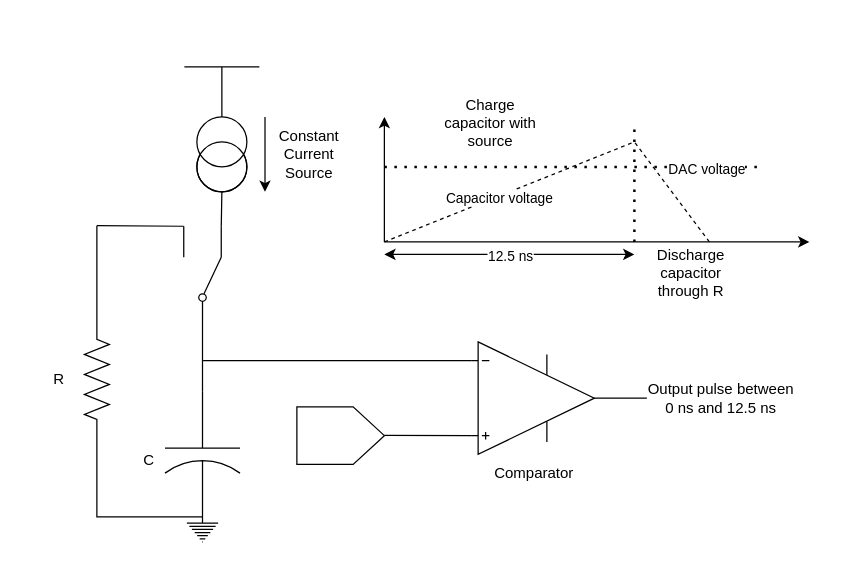
The diagram is 841 pixels wide and 564 high, and some of its shapes have lost their labels. Each missing label, with the centre of its shape:
12-bit DAC: pixel 340 435
V dd: pixel 221 91
